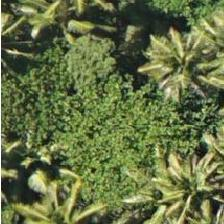Kelapa_Sawit: (133, 11, 223, 101), (126, 138, 216, 224), (13, 172, 103, 224)
